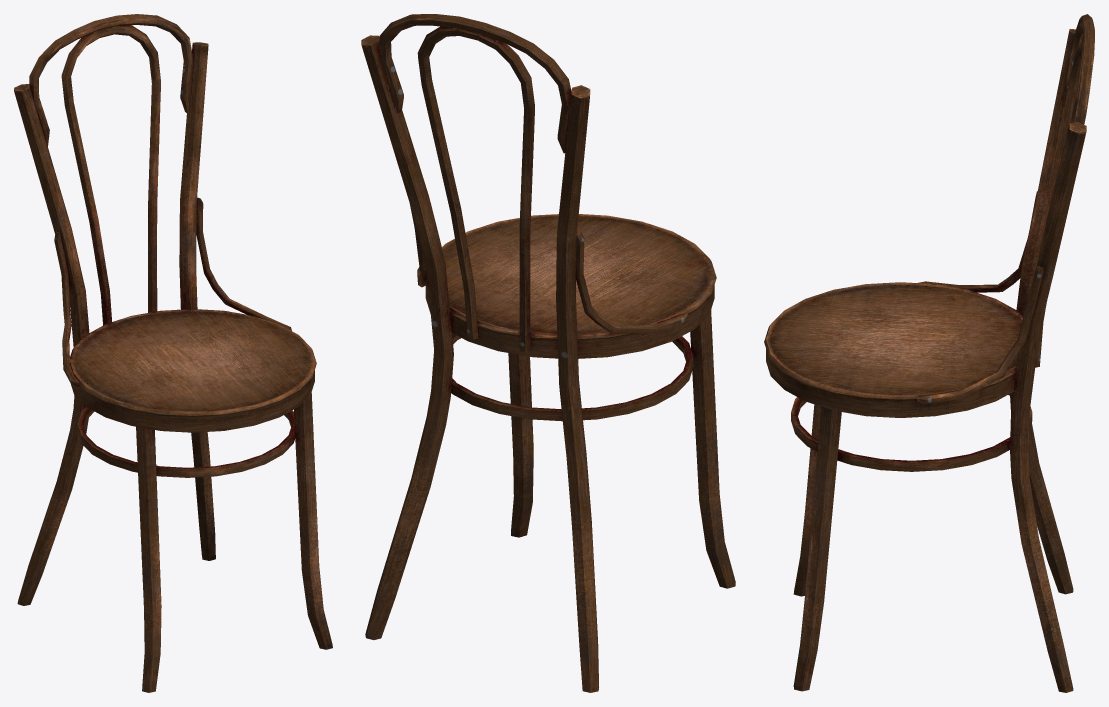
The model's file is old_wooden_chair.glb.
3 views of the same model, side by side, from view 1: azimuth 30°, elevation 25°; view 2: azimuth 150°, elevation 25°; view 3: azimuth 270°, elevation 25° (orthographic). The views are drawn at different scales.
Parts seen in each view (by area): view 1: chair_chair_0; view 2: chair_chair_0; view 3: chair_chair_0.
Part boxes in pixels (x1=…): chair_chair_0: x1=14, y1=14, x2=332, y2=692; chair_chair_0: x1=361, y1=14, x2=735, y2=692; chair_chair_0: x1=764, y1=14, x2=1094, y2=692.
Size of the model in its own units: 0.2011 by 0.4841 by 0.2386.
Materials: 1 (1 with a texture image).
